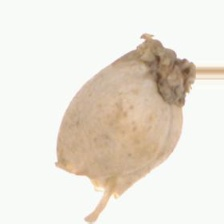L1: (142, 37, 195, 102), (52, 158, 123, 202)
L2: (55, 35, 193, 199)
